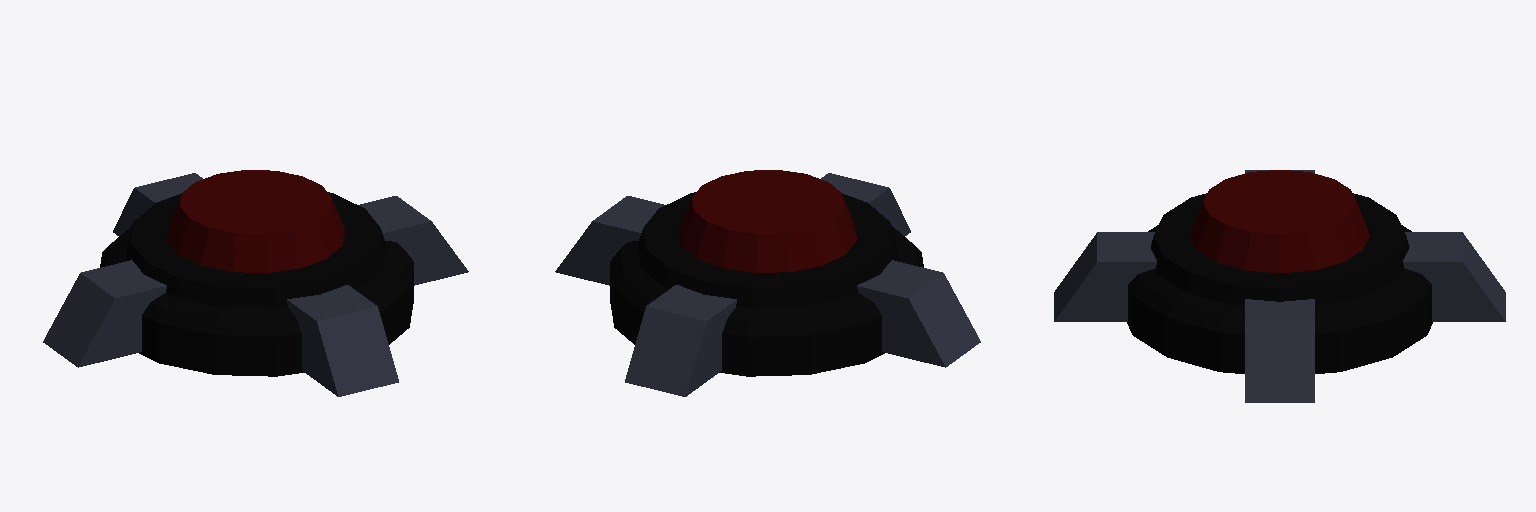
File: Landmine.obj
3 views of the same model, side by side, from view 1: azimuth 30°, elevation 25°; view 2: azimuth 150°, elevation 25°; view 3: azimuth 270°, elevation 25° (orthographic).
Parts seen in each view (by area): view 1: obj1, obj3, obj2; view 2: obj1, obj3, obj2; view 3: obj1, obj3, obj2.
Boxes of the visible parts, x1,y1,x2,y2 form: obj1: [100, 192, 413, 376]; obj3: [43, 173, 468, 396]; obj2: [167, 170, 344, 272]; obj1: [610, 192, 923, 376]; obj3: [555, 173, 980, 396]; obj2: [679, 170, 856, 272]; obj1: [1127, 193, 1432, 373]; obj3: [1054, 170, 1505, 402]; obj2: [1190, 170, 1369, 272].
Bounding box in the file's own units: 1.11 × 0.2942 × 1.11.